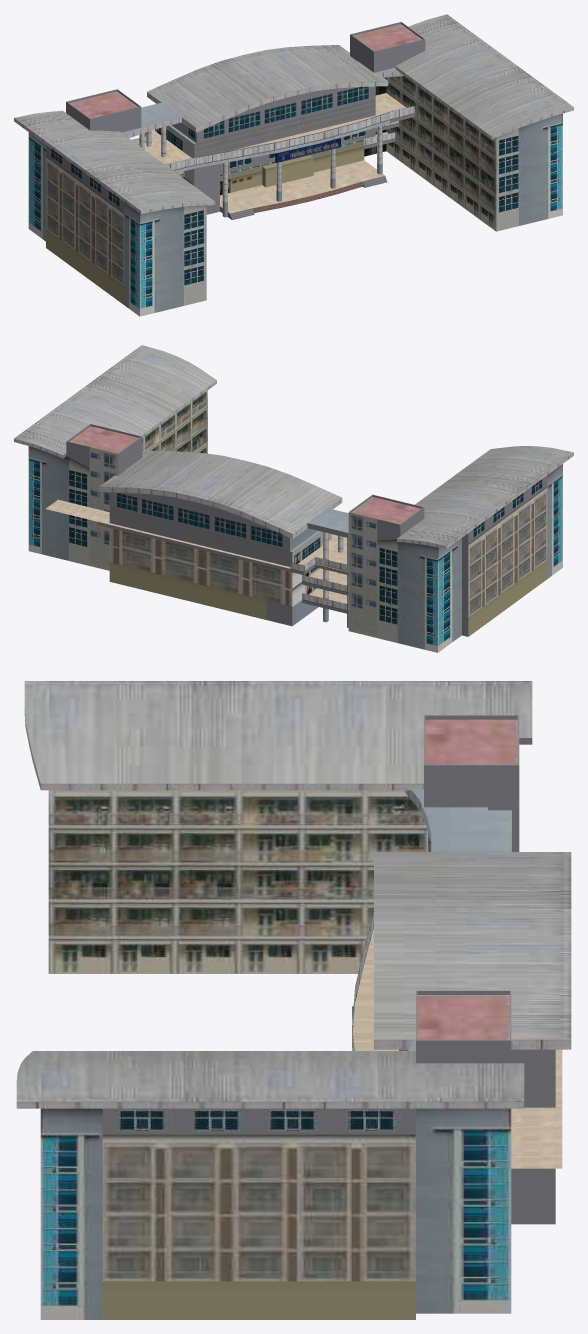
The picture shows the model from 3 angles, top to bottom: view 1: azimuth 30°, elevation 25°; view 2: azimuth 150°, elevation 25°; view 3: azimuth 270°, elevation 25°; orthographic projection. The views are drawn at different scales.
Parts seen in each view (by area): view 1: HN848_TruongTieuHocYenHoa; view 2: HN848_TruongTieuHocYenHoa; view 3: HN848_TruongTieuHocYenHoa.
Boxes of the visible parts, x1,y1,x2,y2 form: HN848_TruongTieuHocYenHoa: (14, 14, 573, 316); HN848_TruongTieuHocYenHoa: (14, 345, 573, 652); HN848_TruongTieuHocYenHoa: (16, 681, 571, 1319).
Bounding box in the file's own units: 86.85 × 22.75 × 48.4.
1 material, 1 textured.
